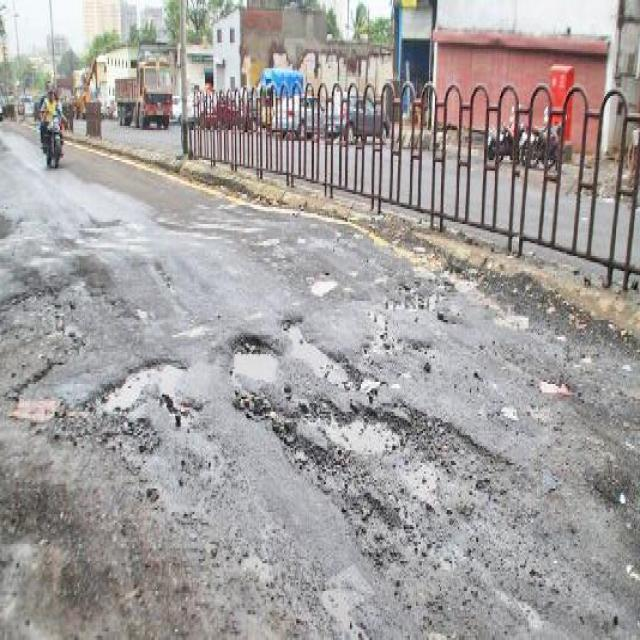pothole: (270, 399, 510, 497), (88, 356, 190, 418), (279, 312, 355, 386), (226, 331, 282, 386), (386, 286, 446, 314), (9, 390, 62, 420), (310, 271, 340, 299)
